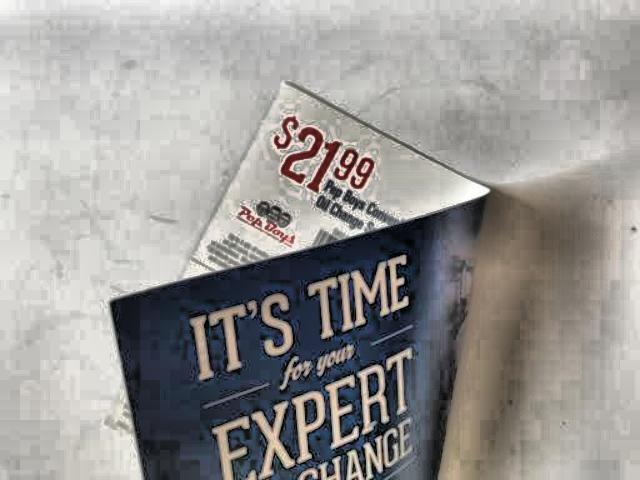Paper: (109, 73, 495, 480)
